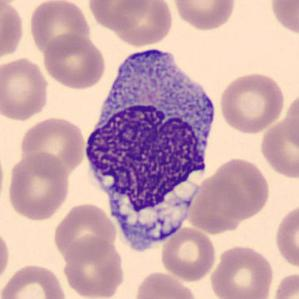Monocyte: (79, 31, 220, 252)
RBC: (6, 150, 72, 222), (217, 70, 286, 135), (18, 115, 88, 176), (51, 201, 119, 263), (61, 235, 126, 299), (210, 156, 272, 222), (42, 32, 108, 91), (208, 243, 276, 299), (28, 0, 92, 57), (158, 224, 218, 282), (0, 55, 50, 122), (111, 0, 174, 48), (257, 116, 298, 181), (0, 261, 68, 299), (170, 0, 238, 32), (132, 269, 199, 299), (86, 0, 149, 31), (272, 201, 298, 271), (0, 0, 26, 65), (268, 0, 298, 38), (270, 270, 298, 299), (0, 226, 12, 287), (0, 147, 6, 210)
